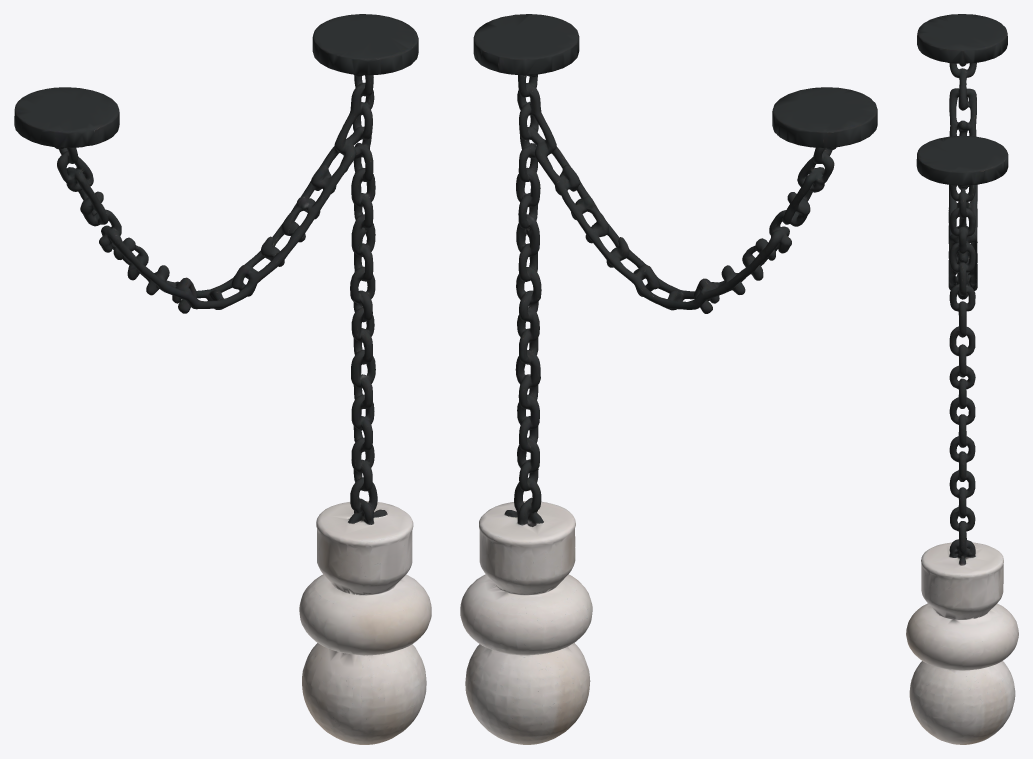
The model's file is alabaster-pendant.glb.
3 renders of one model, left to right at view 1: azimuth 30°, elevation 25°; view 2: azimuth 150°, elevation 25°; view 3: azimuth 270°, elevation 25°, orthographic. The views are drawn at different scales.
Parts seen in each view (by area): view 1: world; view 2: world; view 3: world.
Boxes of the visible parts, box(x1,y1,x2,y2) form: world: box(14, 14, 431, 744); world: box(460, 14, 877, 744); world: box(906, 14, 1018, 744).
Bounding box in the file's own units: 0.6004 × 1 × 0.1749.
Materials: 1 (1 with a texture image).
